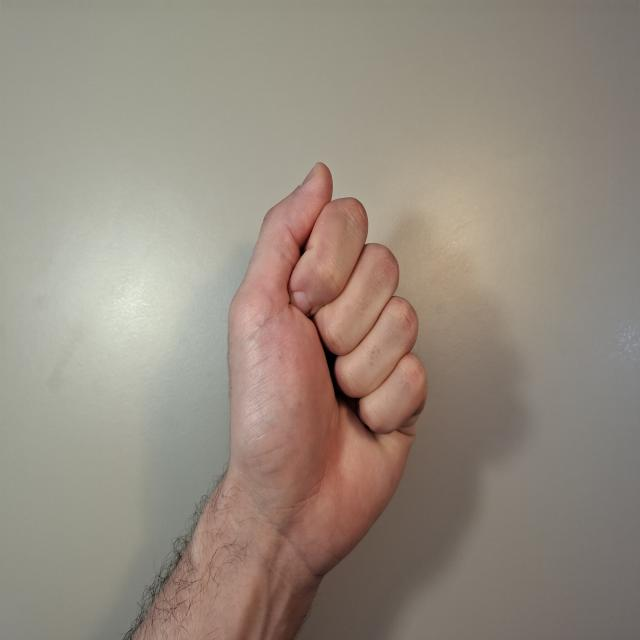glove_off: (224, 159, 430, 589)
